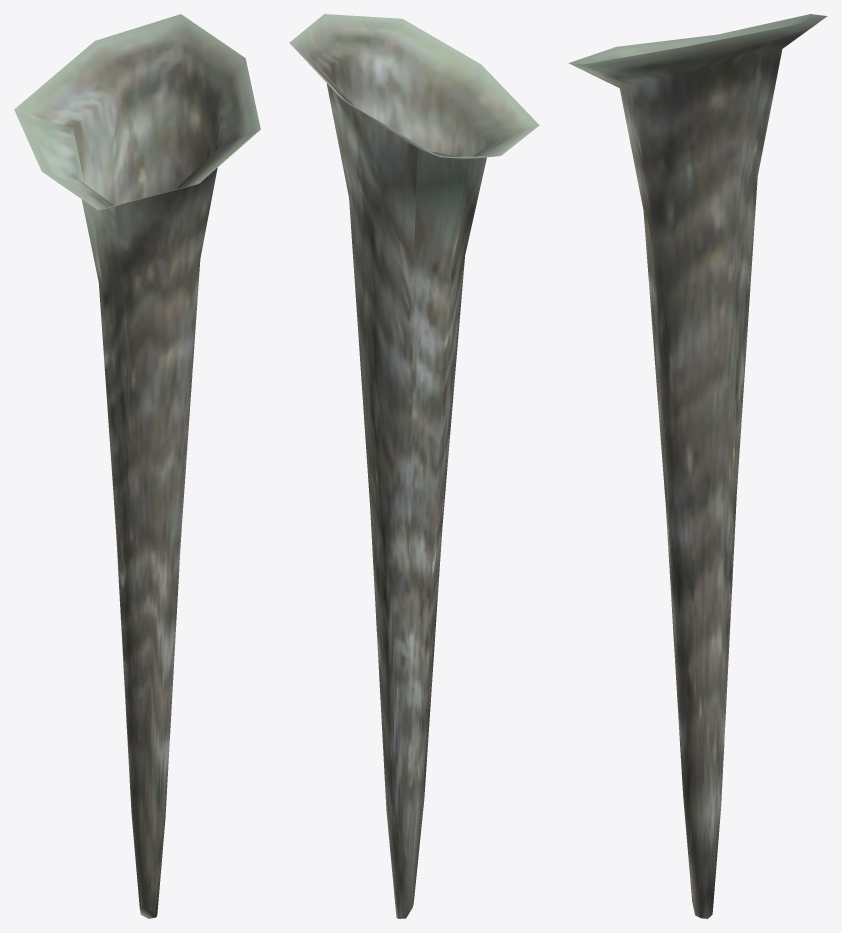
Rendered from TROLLHOLE02_PS-MAINSTALAG30.fbx.
The picture shows the model from 3 angles, left to right: view 1: azimuth 30°, elevation 25°; view 2: azimuth 150°, elevation 25°; view 3: azimuth 270°, elevation 25°; orthographic projection. The views are drawn at different scales.
Visible parts, largest first — view 1: TROLLHOLE02_PS-MAINSTALAG30; view 2: TROLLHOLE02_PS-MAINSTALAG30; view 3: TROLLHOLE02_PS-MAINSTALAG30.
Part boxes in pixels (box(x1,y1,x2,y2)): TROLLHOLE02_PS-MAINSTALAG30: box(14, 14, 260, 918); TROLLHOLE02_PS-MAINSTALAG30: box(289, 14, 539, 918); TROLLHOLE02_PS-MAINSTALAG30: box(568, 14, 827, 918).
Bounding box in the file's own units: 10616 × 46429 × 11766.
Materials: 1 (1 with a texture image).
